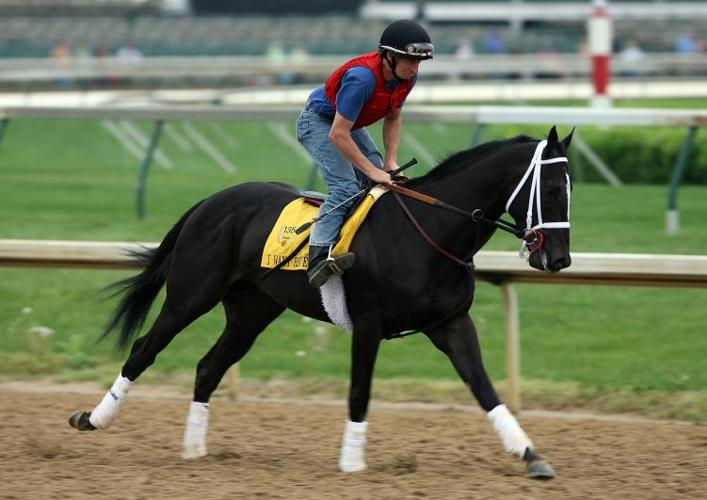person: (294, 19, 439, 283)
